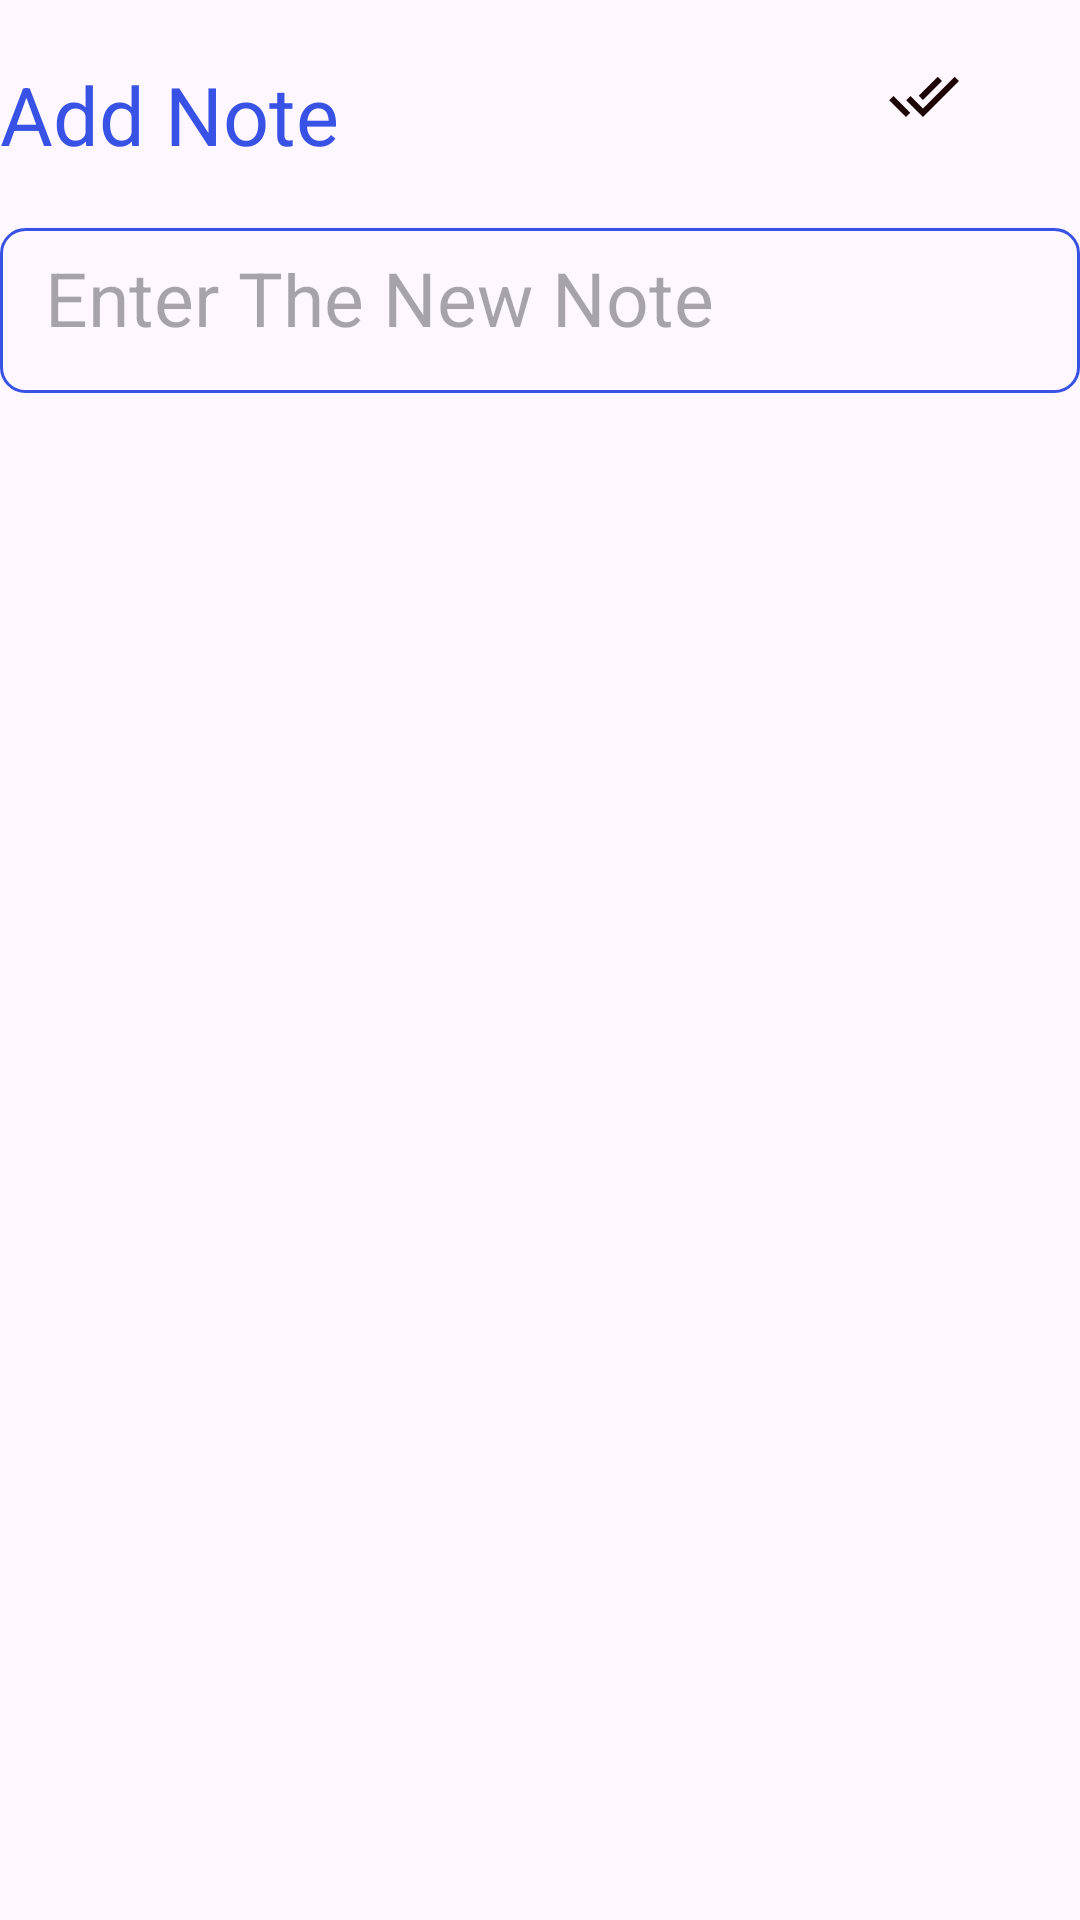

Named icons in this screenshot (1080w x 1920h) and their bounding boxes, box(x1, y1, x2, y2):
done all: box(889, 77, 959, 117)
